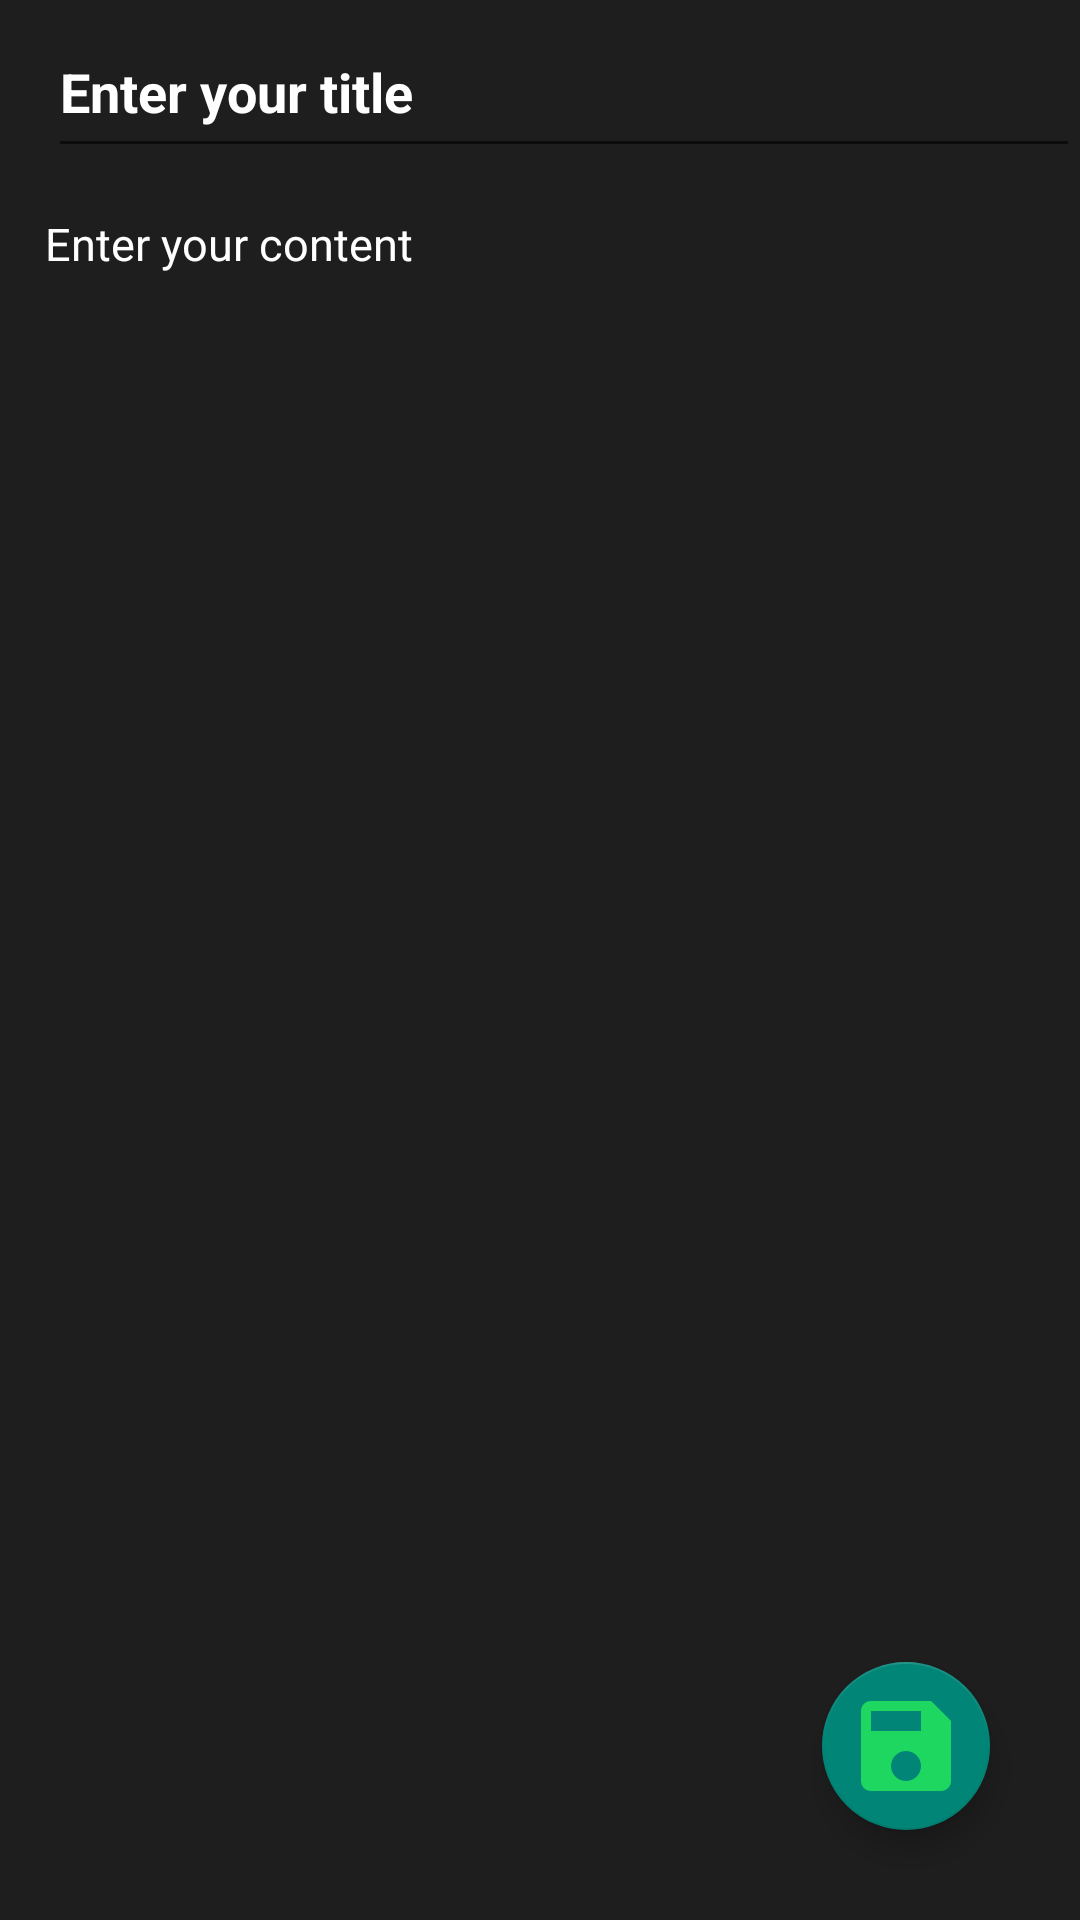

Screen size 1080x1920. Icon name, then its center in pixels as (x=x, y=y):
save: (x=906, y=1746)
